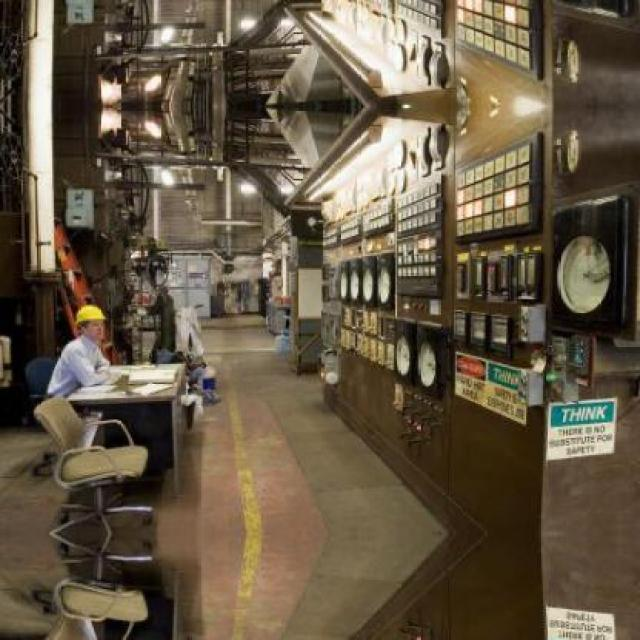helmet: (74, 302, 109, 327)
